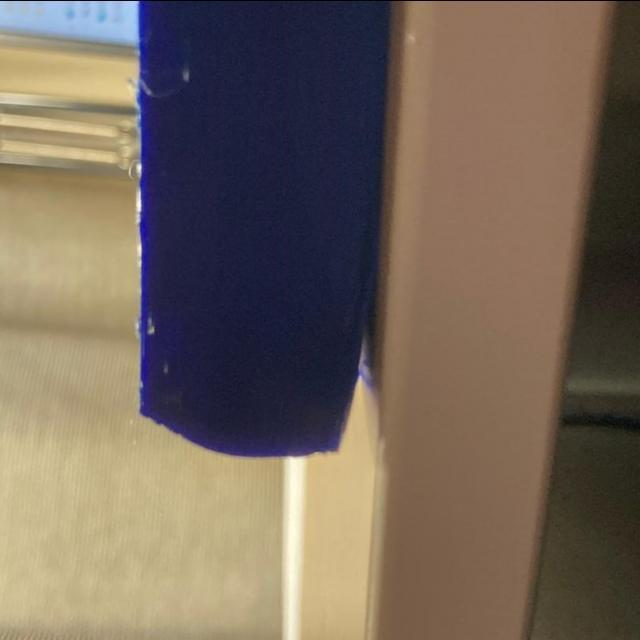Warping: (324, 330, 365, 460)
